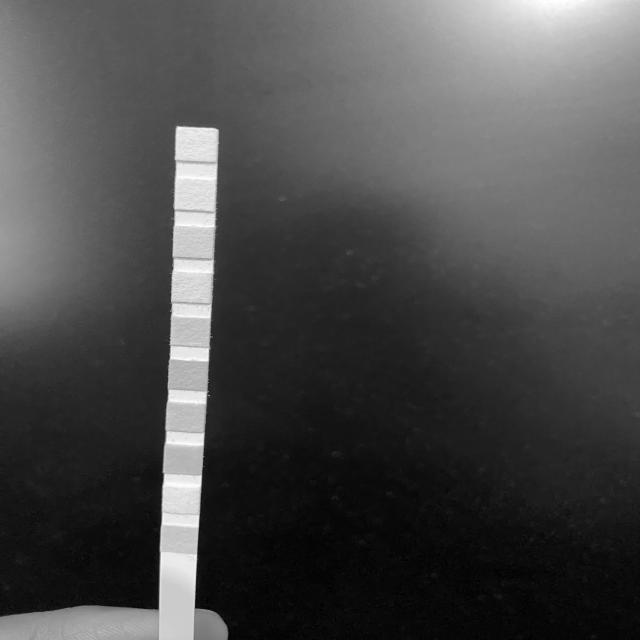Bilirubin: (163, 488, 200, 512)
Blood: (170, 362, 208, 389)
Glucose: (162, 528, 198, 552)
Ketone: (166, 446, 202, 473)
Leukocytes: (176, 130, 217, 158)
Nitrite: (176, 180, 215, 210)
Protein: (172, 273, 212, 301)
SpGravity: (168, 404, 204, 430)
Urobilinogen: (174, 227, 214, 256)
background: (0, 0, 640, 640)
pH: (172, 318, 210, 345)
strip: (159, 127, 219, 640)
